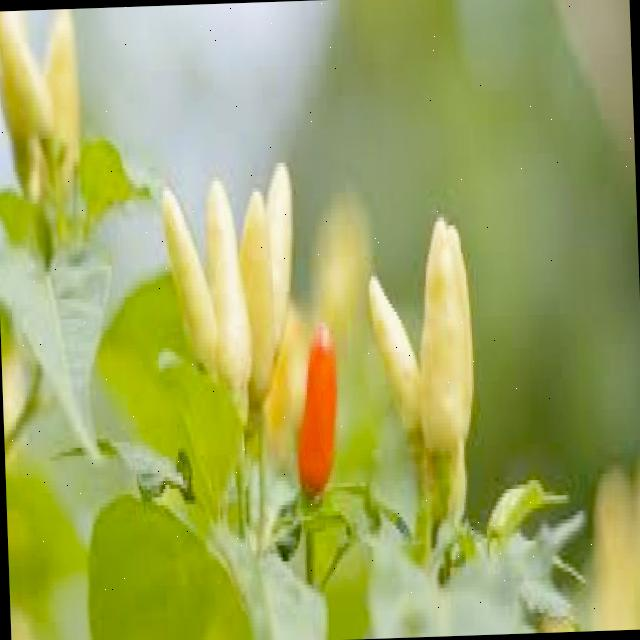healthy: (0, 130, 511, 640)
